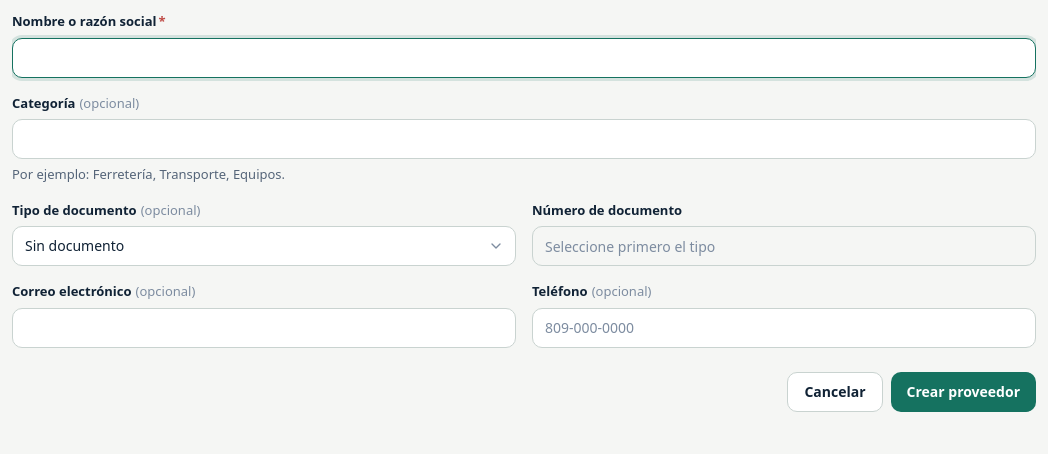
SupplierForm › only requires the name
What coordinates should you click on to do the following:
click the button "Crear proveedor"
I would click on:
 (963, 392)
Its box is [890,372,1036,412].
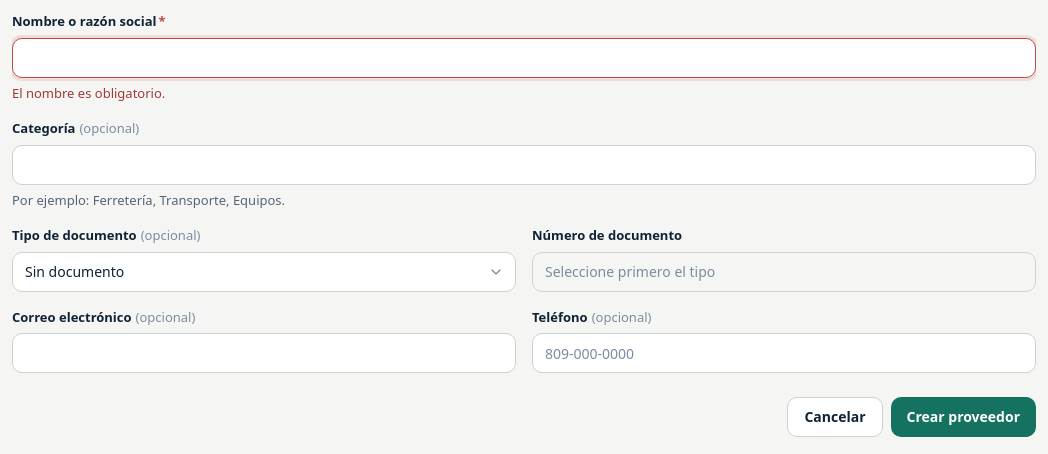
Expected: the text "El nombre es obligatorio." is shown, [12,84,165,102]
